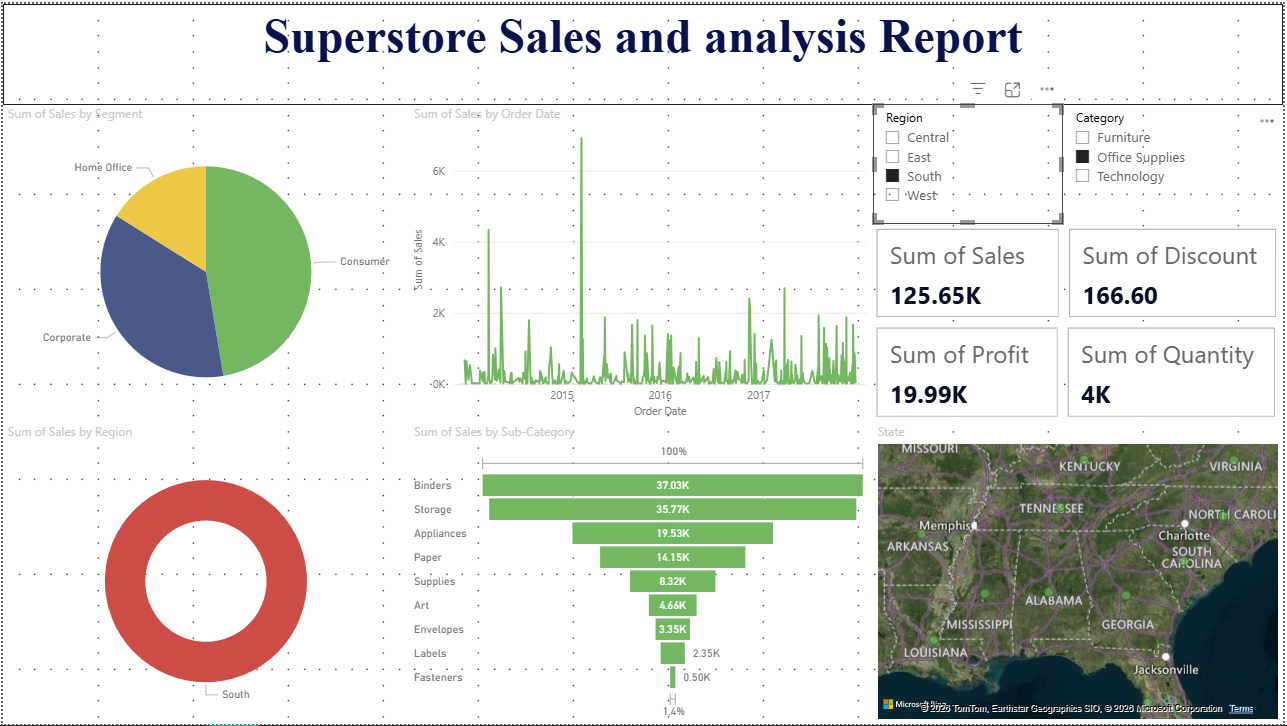

What the dashboard file says about the page in this screenshot:
{"tool":"powerbi","page":{"name":"Page 1","canvas":[1280,720],"ordinal":0},"visuals":[{"type":"donutChart","fields":{"Category":["Sample - Superstore.Region"],"Y":["Sum(Sample - Superstore.Sales)"]},"box":[0,418.8,406.2,301.2],"z":0},{"type":"funnel","fields":{"Category":["Sample - Superstore.Sub-Category"],"Y":["Sum(Sample - Superstore.Sales)"]},"box":[406.2,418.8,463.8,301.2],"z":1000},{"type":"map","fields":{"Category":["Sample - Superstore.State"]},"box":[870,418.8,410,301.2],"z":2000},{"type":"pieChart","fields":{"Category":["Sample - Superstore.Segment"],"Y":["Sum(Sample - Superstore.Sales)"]},"box":[0,101.2,406.2,317.5],"z":3000},{"type":"lineChart","fields":{"Category":["Sample - Superstore.Order Date"],"Y":["Sum(Sample - Superstore.Sales)"]},"box":[406.2,101.2,463.8,317.5],"z":4000},{"type":"cardVisual","fields":{"Data":["Sum(Sample - Superstore.Sales)"]},"box":[869.1,220.6,192.6,98.5],"z":5000},{"type":"cardVisual","fields":{"Data":["Sum(Sample - Superstore.Quantity)"]},"box":[1060.3,319.1,217.6,100],"z":6000},{"type":"cardVisual","fields":{"Data":["Sum(Sample - Superstore.Discount)"]},"box":[1061.8,220.6,217.6,98.5],"z":7000},{"type":"cardVisual","fields":{"Data":["Sum(Sample - Superstore.Profit)"]},"box":[869.1,319.1,191.2,100],"z":8000},{"type":"textbox","box":[0,0,1280,101.2],"z":9000},{"type":"slicer","fields":{"Values":["Sample - Superstore.Region"]},"box":[870.6,100,189.7,120.6],"z":9001},{"type":"slicer","fields":{"Values":["Sample - Superstore.Category"]},"box":[1060.3,100,219.1,120.6],"z":9003}]}

Visuals, with their boxes in screenshot pixels (x1, y1, x2, y2), scaled from the page's 1280x720 canvas onto the 1287x726 screenshot:
donutChart - Sample - Superstore.Region x Sum(Sample - Superstore.Sales): [0, 422, 408, 725]
funnel - Sample - Superstore.Sub-Category x Sum(Sample - Superstore.Sales): [408, 422, 875, 725]
map - Sample - Superstore.State: [875, 422, 1286, 725]
pieChart - Sample - Superstore.Segment x Sum(Sample - Superstore.Sales): [0, 102, 408, 422]
lineChart - Sample - Superstore.Order Date x Sum(Sample - Superstore.Sales): [408, 102, 875, 422]
cardVisual - Sum(Sample - Superstore.Sales): [874, 222, 1068, 322]
cardVisual - Sum(Sample - Superstore.Quantity): [1066, 322, 1285, 423]
cardVisual - Sum(Sample - Superstore.Discount): [1068, 222, 1286, 322]
cardVisual - Sum(Sample - Superstore.Profit): [874, 322, 1066, 423]
textbox: [0, 0, 1286, 102]
slicer - Sample - Superstore.Region: [875, 101, 1066, 222]
slicer - Sample - Superstore.Category: [1066, 101, 1286, 222]
